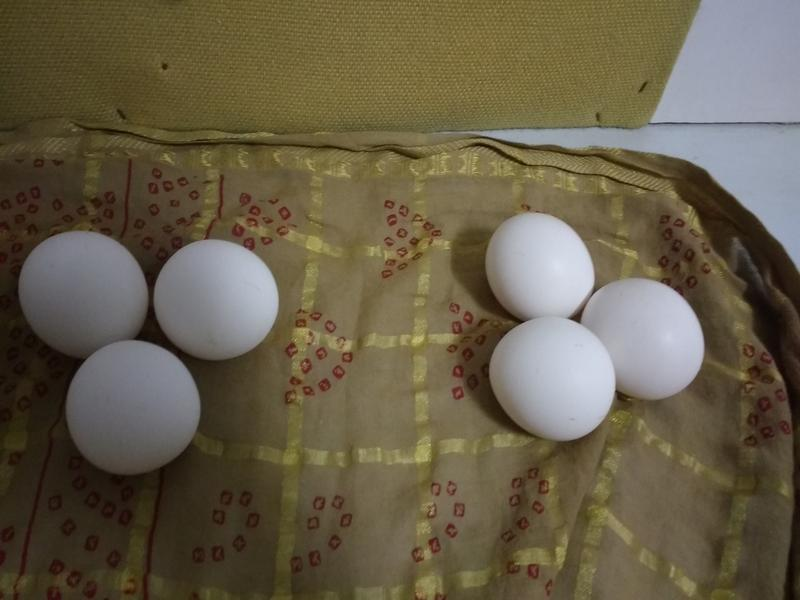egg: (156, 243, 279, 359)
